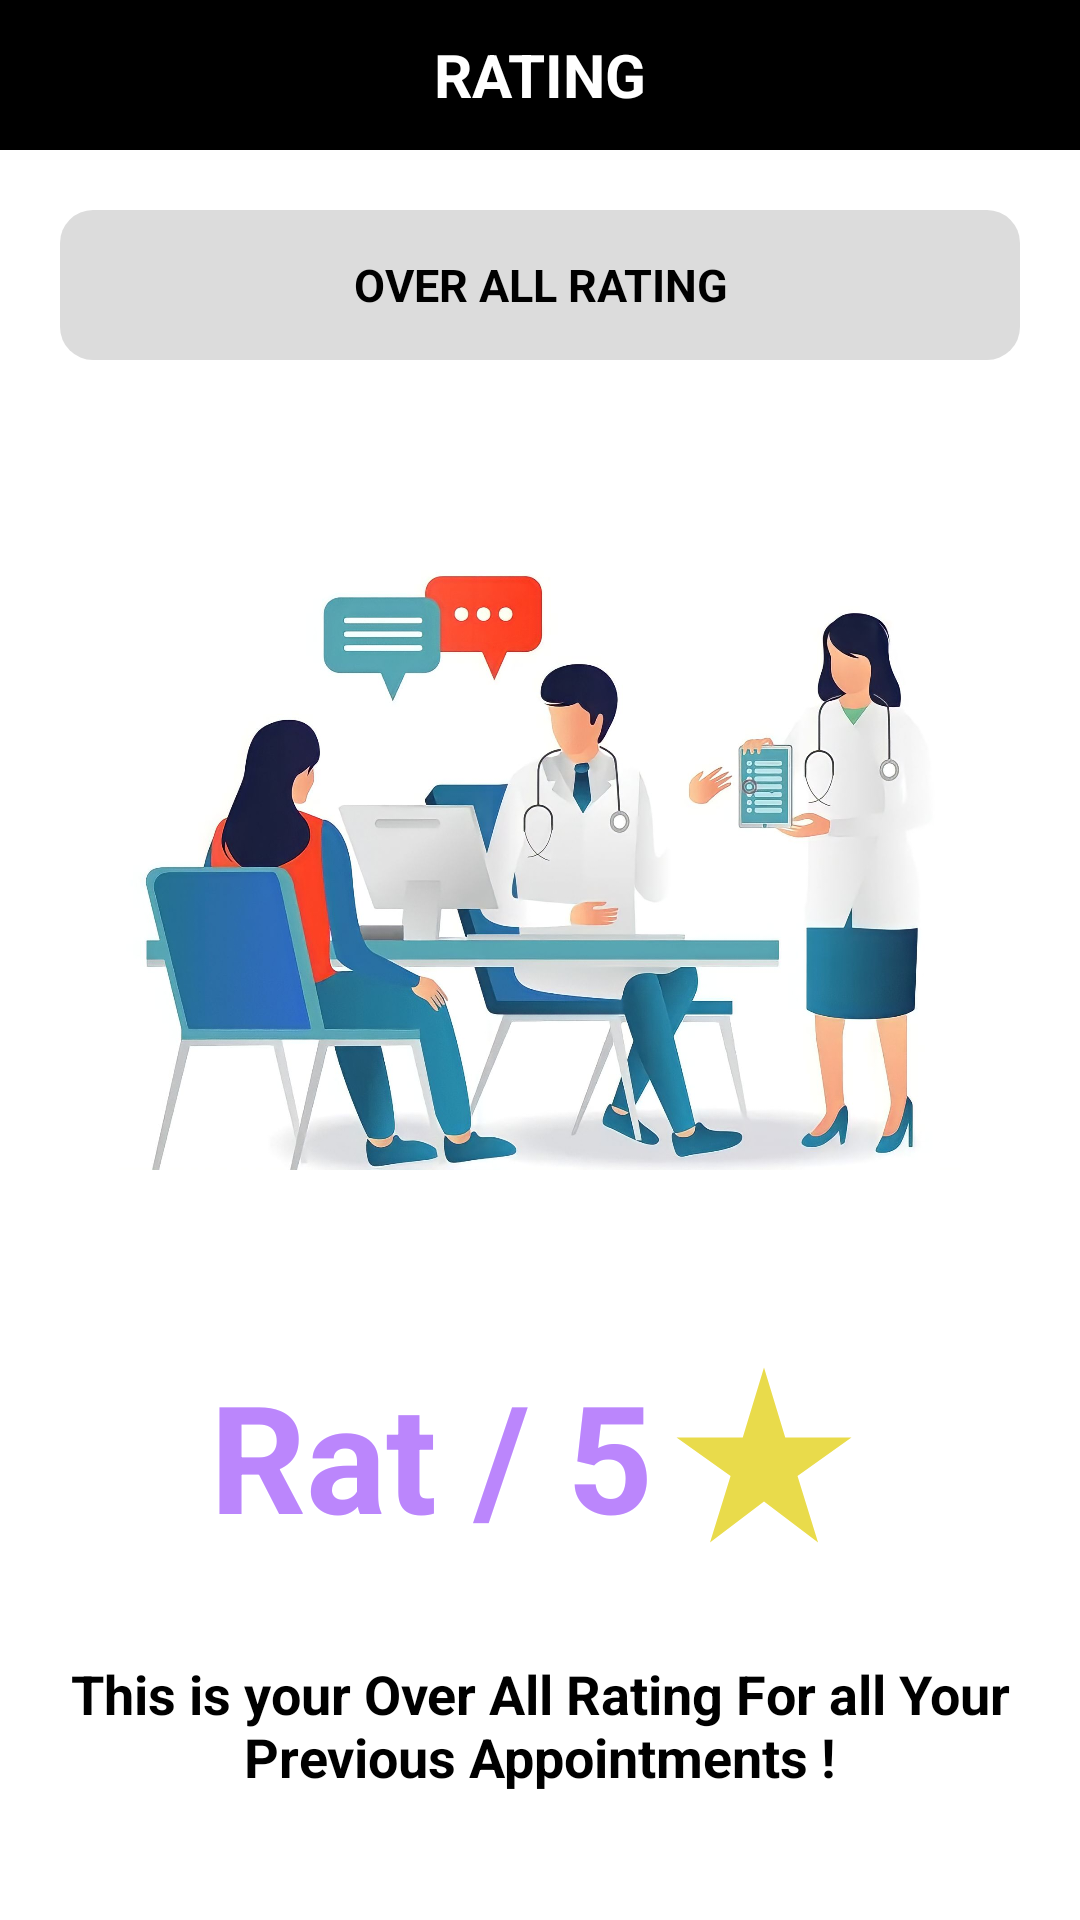

Where to tap for icons on this 1080×1920 app screen, as (x,y):
star rate: (764,1455)
